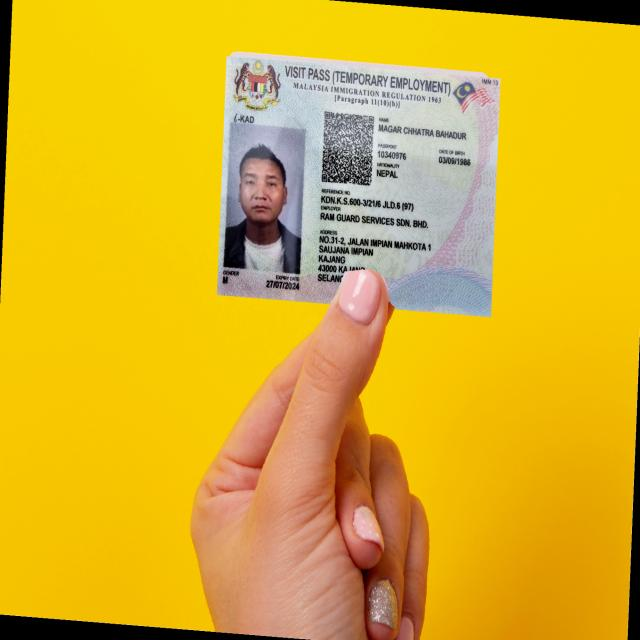ikad-temp: (216, 51, 500, 316)
